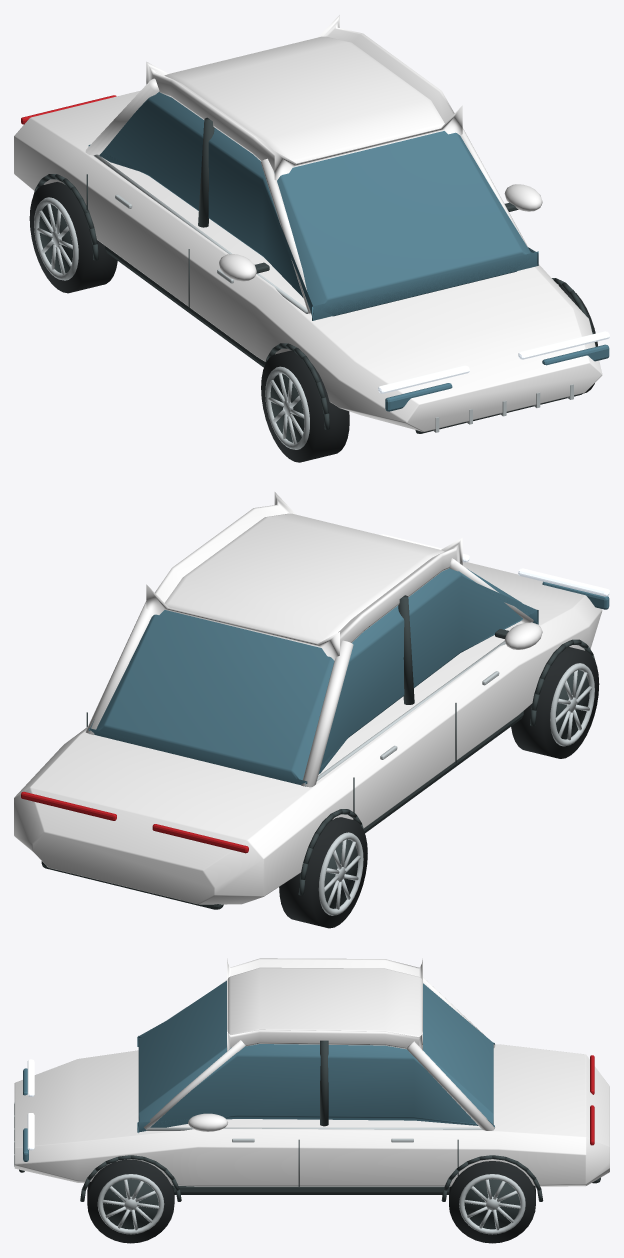
File: site-city-crossover.glb
3 views of the same model, one above another, from view 1: azimuth 30°, elevation 25°; view 2: azimuth 150°, elevation 25°; view 3: azimuth 270°, elevation 25° (orthographic). The views are drawn at different scales.
Visible parts, largest first — view 1: body_City_vehicle_enamel.001, body_Blue_reflective_glazing.001, body_Anthracite_anodized_metal.001, FL_Rubber_gaskets_and_feet.001, RL_Rubber_gaskets_and_feet.001, RL_Vehicle_polished_chrome.001, FL_Vehicle_polished_chrome.001, body_City_glow_vehicle_LEDs.001, body_Vehicle_polished_chrome.001, FL_Anthracite_anodized_metal.001, RL_Anthracite_anodized_metal.001; view 2: body_City_vehicle_enamel.001, body_Blue_reflective_glazing.001, body_Anthracite_anodized_metal.001, RL_Rubber_gaskets_and_feet.001, FL_Rubber_gaskets_and_feet.001, RL_Vehicle_polished_chrome.001, FL_Vehicle_polished_chrome.001, body_Vehicle_tail_LEDs.001, body_City_glow_vehicle_LEDs.001, body_Vehicle_polished_chrome.001, RL_Anthracite_anodized_metal.001, FL_Anthracite_anodized_metal.001; view 3: body_City_vehicle_enamel.001, body_Blue_reflective_glazing.001, body_Anthracite_anodized_metal.001, FR_Rubber_gaskets_and_feet.001, RR_Rubber_gaskets_and_feet.001, FR_Vehicle_polished_chrome.001, RR_Vehicle_polished_chrome.001, RR_Anthracite_anodized_metal.001, FR_Anthracite_anodized_metal.001, body_Vehicle_polished_chrome.001, body_City_glow_vehicle_LEDs.001, body_Vehicle_tail_LEDs.001.
Boxes of the visible parts, x1=… form: body_City_vehicle_enamel.001: x1=14, y1=15, x2=602, y2=431; body_Blue_reflective_glazing.001: x1=88, y1=92, x2=609, y2=411; body_Anthracite_anodized_metal.001: x1=33, y1=117, x2=596, y2=433; FL_Rubber_gaskets_and_feet.001: x1=261, y1=350, x2=349, y2=462; RL_Rubber_gaskets_and_feet.001: x1=29, y1=182, x2=117, y2=293; RL_Vehicle_polished_chrome.001: x1=34, y1=197, x2=78, y2=280; FL_Vehicle_polished_chrome.001: x1=265, y1=366, x2=309, y2=449; body_City_glow_vehicle_LEDs.001: x1=378, y1=331, x2=609, y2=393; body_Vehicle_polished_chrome.001: x1=93, y1=154, x2=573, y2=432; FL_Anthracite_anodized_metal.001: x1=270, y1=373, x2=304, y2=442; RL_Anthracite_anodized_metal.001: x1=39, y1=204, x2=72, y2=273; body_City_vehicle_enamel.001: x1=14, y1=492, x2=602, y2=904; body_Blue_reflective_glazing.001: x1=88, y1=568, x2=609, y2=786; body_Anthracite_anodized_metal.001: x1=41, y1=595, x2=595, y2=909; RL_Rubber_gaskets_and_feet.001: x1=279, y1=817, x2=367, y2=928; FL_Rubber_gaskets_and_feet.001: x1=511, y1=647, x2=599, y2=758; RL_Vehicle_polished_chrome.001: x1=318, y1=832, x2=363, y2=915; FL_Vehicle_polished_chrome.001: x1=550, y1=663, x2=594, y2=746; body_Vehicle_tail_LEDs.001: x1=21, y1=791, x2=248, y2=853; body_City_glow_vehicle_LEDs.001: x1=380, y1=534, x2=609, y2=596; body_Vehicle_polished_chrome.001: x1=316, y1=622, x2=532, y2=781; RL_Anthracite_anodized_metal.001: x1=324, y1=839, x2=358, y2=908; FL_Anthracite_anodized_metal.001: x1=556, y1=670, x2=589, y2=739; body_City_vehicle_enamel.001: x1=14, y1=958, x2=609, y2=1186; body_Blue_reflective_glazing.001: x1=23, y1=980, x2=494, y2=1161; body_Anthracite_anodized_metal.001: x1=19, y1=1040, x2=600, y2=1201; FR_Rubber_gaskets_and_feet.001: x1=87, y1=1159, x2=174, y2=1243; RR_Rubber_gaskets_and_feet.001: x1=449, y1=1161, x2=535, y2=1243; FR_Vehicle_polished_chrome.001: x1=97, y1=1174, x2=164, y2=1234; RR_Vehicle_polished_chrome.001: x1=459, y1=1174, x2=525, y2=1234; RR_Anthracite_anodized_metal.001: x1=464, y1=1179, x2=520, y2=1229; FR_Anthracite_anodized_metal.001: x1=103, y1=1179, x2=158, y2=1229; body_Vehicle_polished_chrome.001: x1=14, y1=1102, x2=482, y2=1166; body_City_glow_vehicle_LEDs.001: x1=27, y1=1059, x2=34, y2=1150; body_Vehicle_tail_LEDs.001: x1=590, y1=1055, x2=594, y2=1145.
Size of the model in its own units: 2.24 by 1.71 by 4.71.
